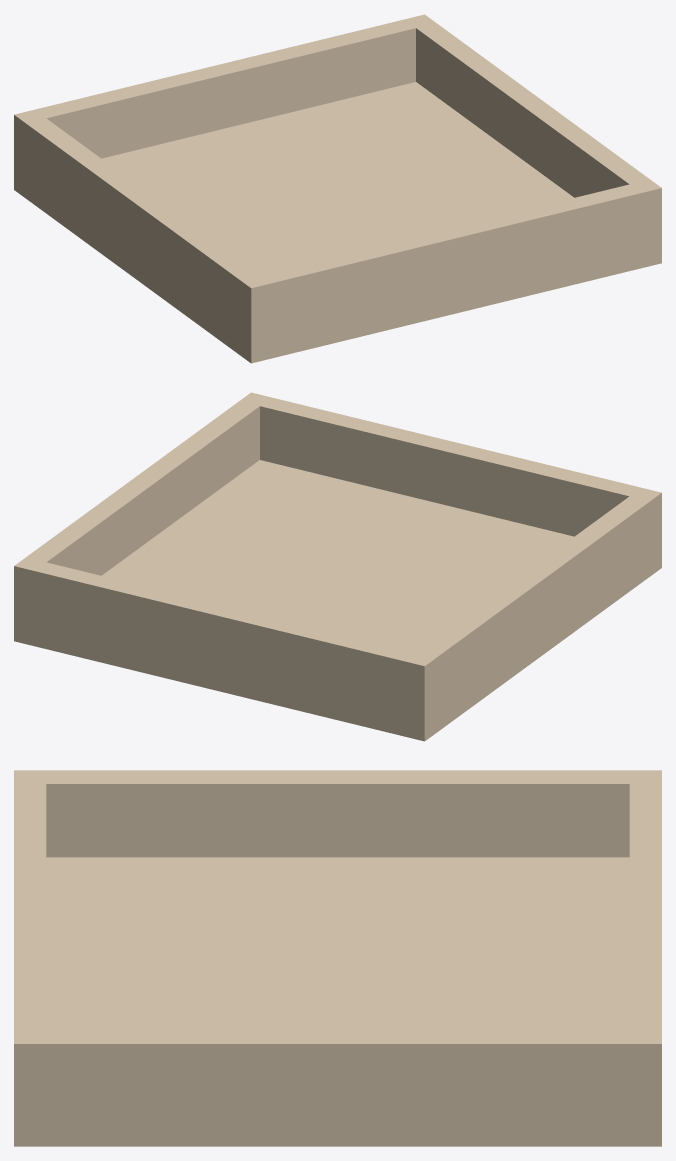
File: CreamRoof_4Edges.glb
The picture shows the model from 3 angles, top to bottom: view 1: azimuth 30°, elevation 25°; view 2: azimuth 150°, elevation 25°; view 3: azimuth 270°, elevation 25°; orthographic projection. The views are drawn at different scales.
Visible parts, largest first — view 1: roof_flat_4Edges_cream; view 2: roof_flat_4Edges_cream; view 3: roof_flat_4Edges_cream.
Boxes of the visible parts, <box> form: roof_flat_4Edges_cream: <box>14,14,661,363</box>; roof_flat_4Edges_cream: <box>14,392,661,741</box>; roof_flat_4Edges_cream: <box>14,770,661,1146</box>.
Size of what is drawn, in the model's own units: 4 by 0.7 by 4.
Materials: 1 (1 with a texture image).
